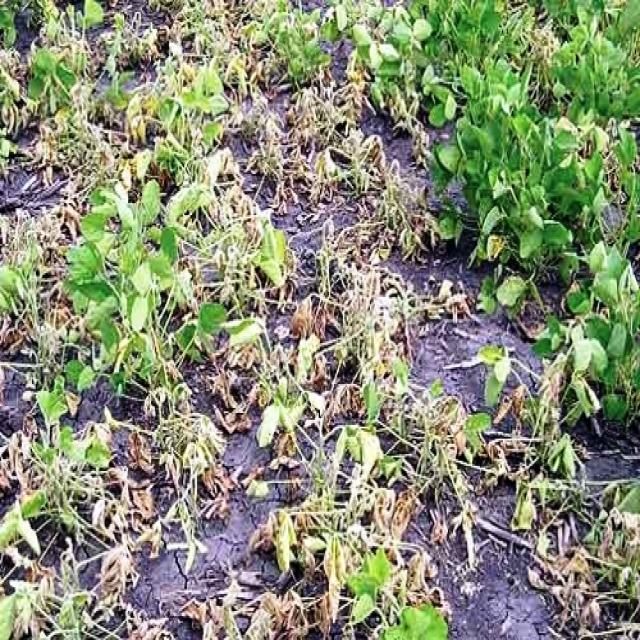Fusarium Wilt: (62, 7, 527, 606)
